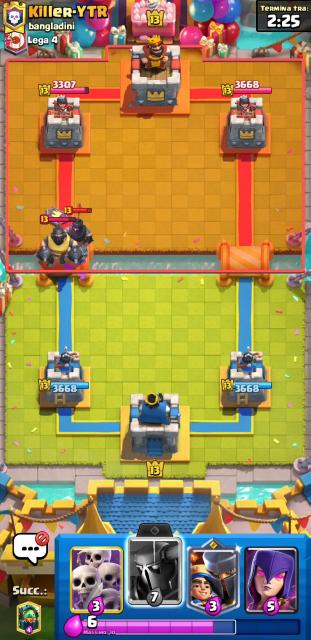enemy_melee: (34, 216, 86, 267), (64, 206, 94, 261)
